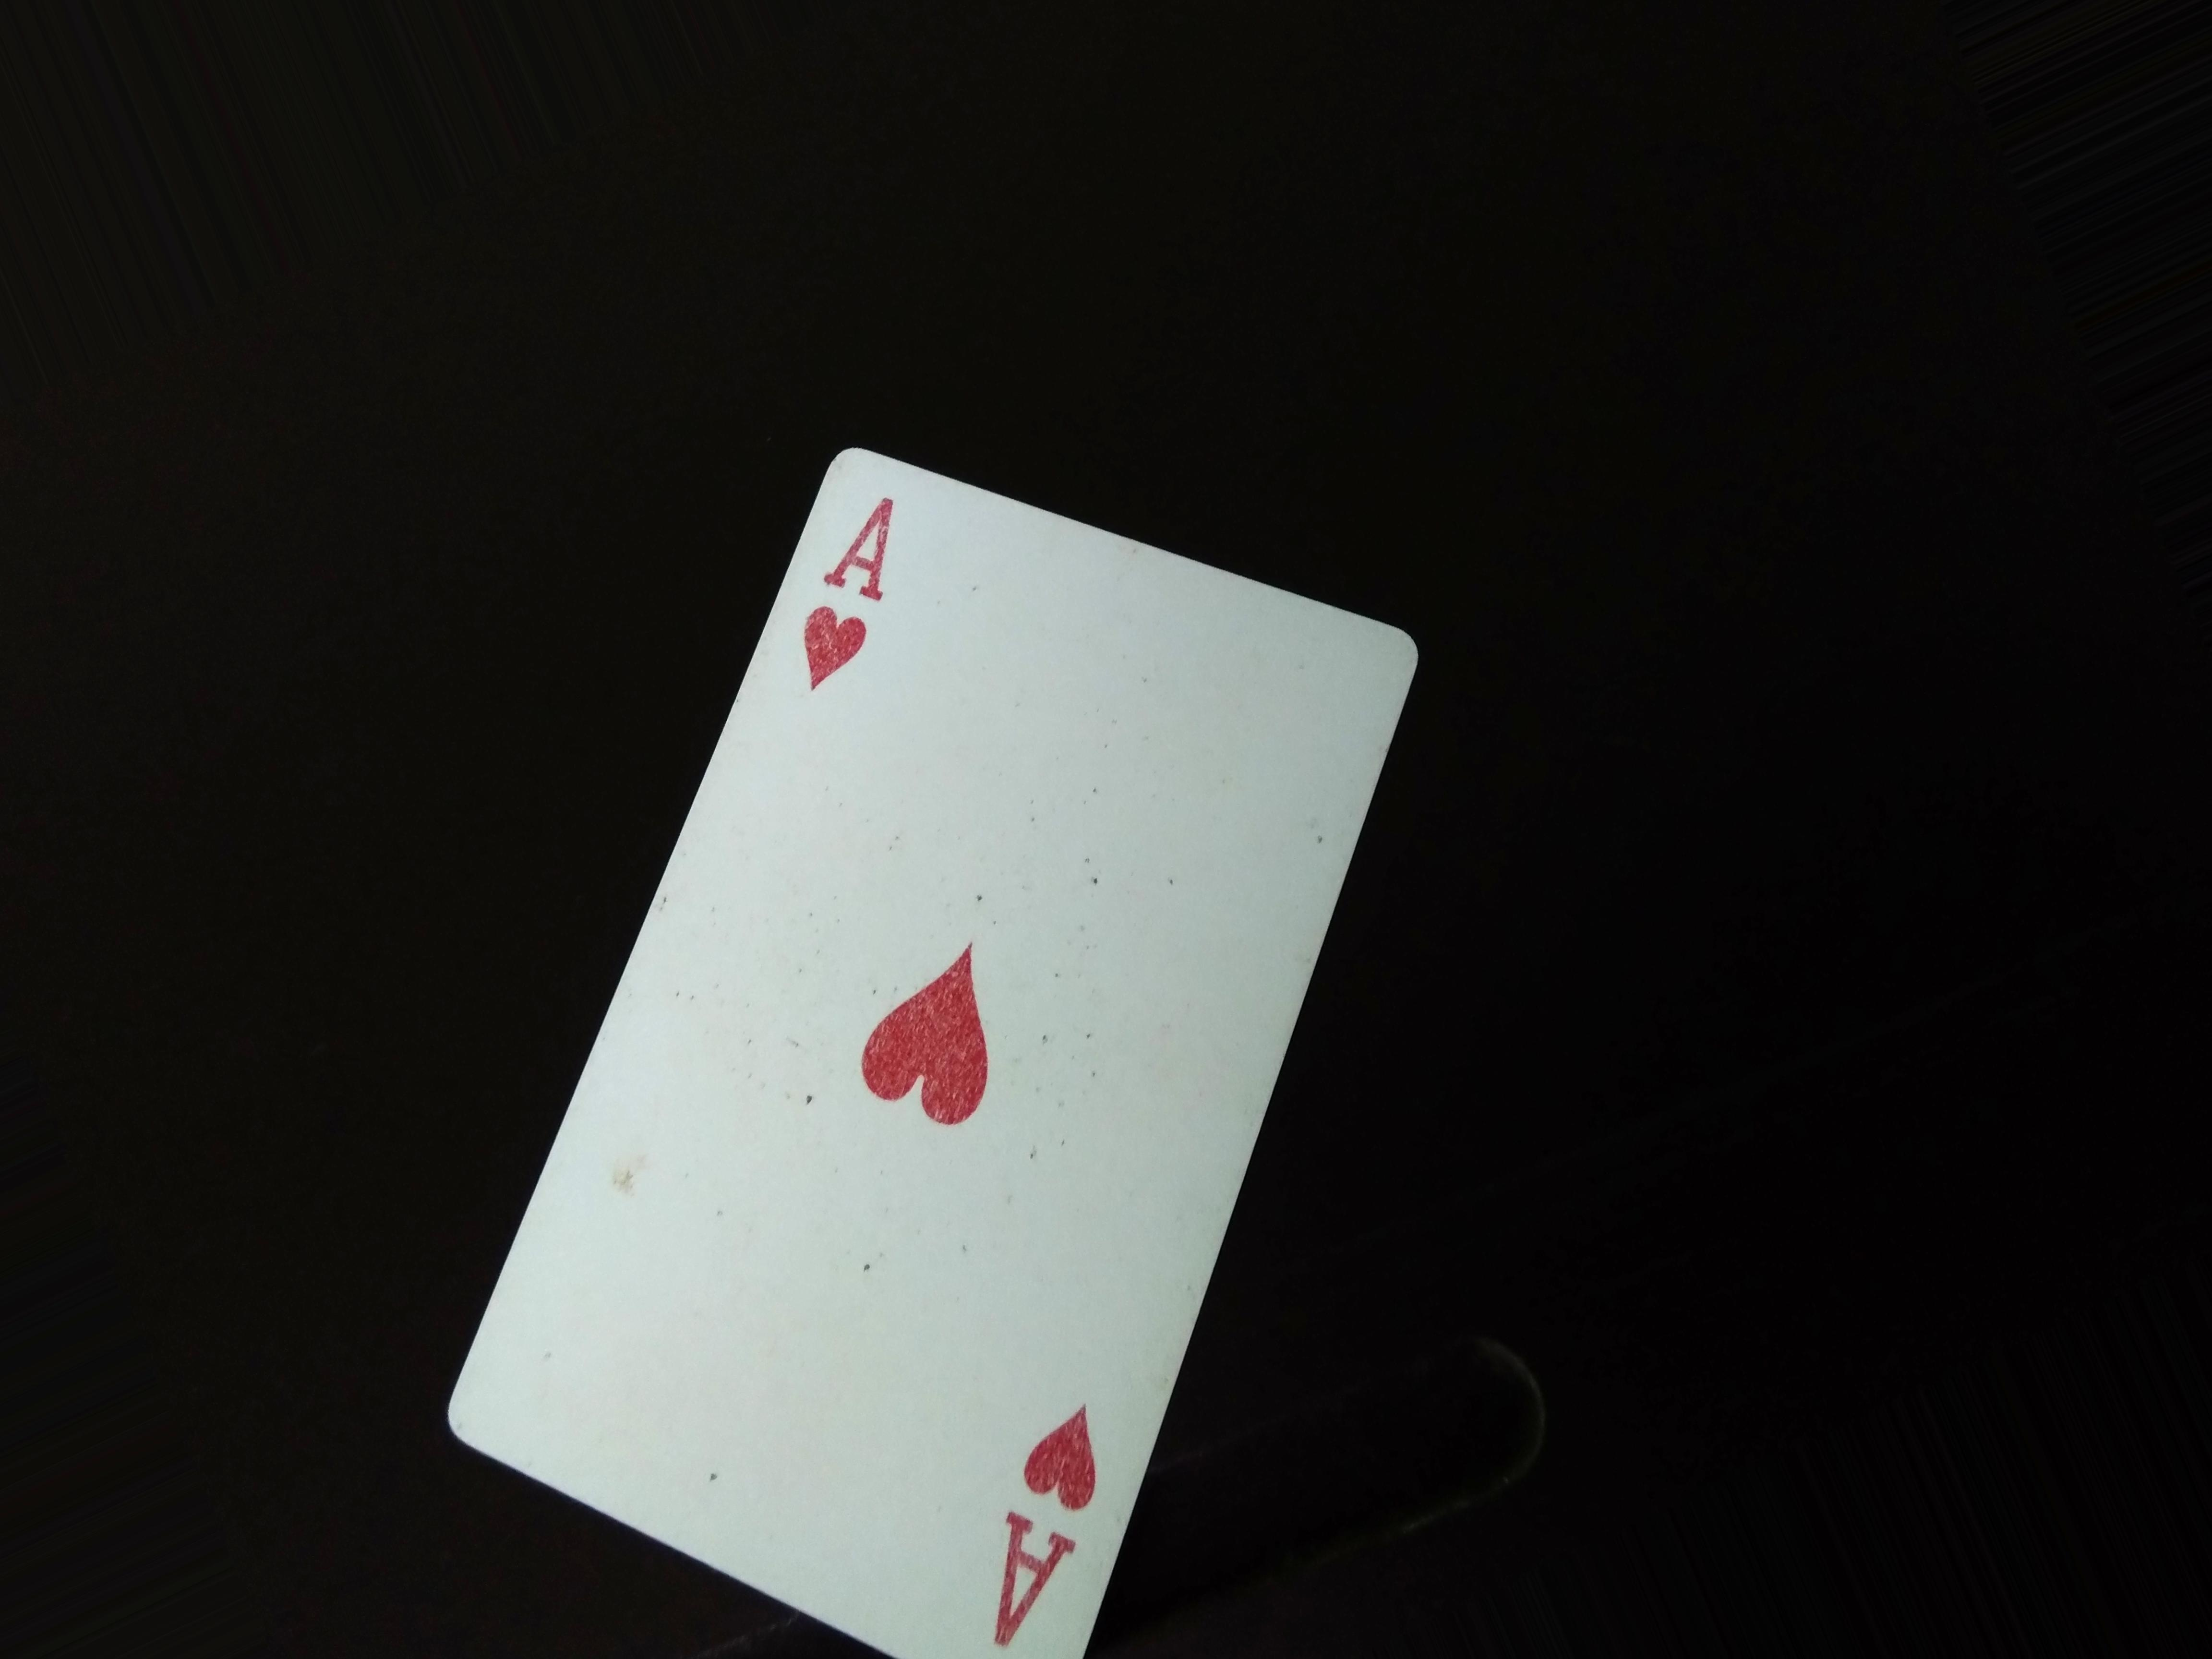AH: (770, 476, 916, 751)
